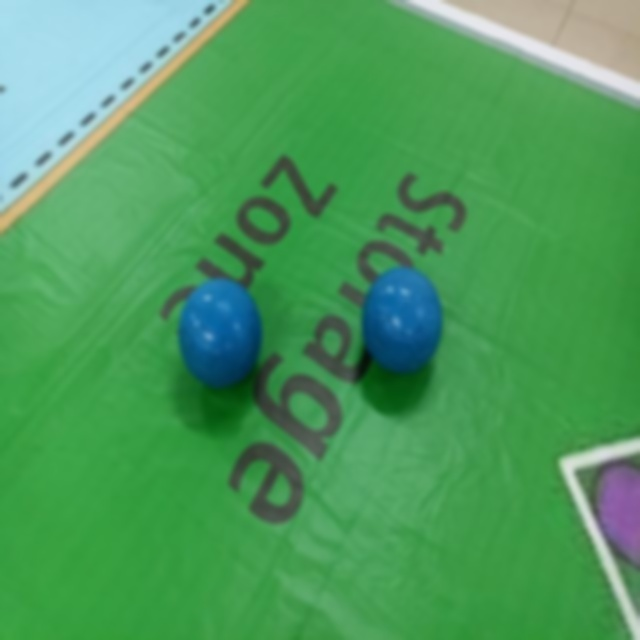blue_ball: (360, 266, 442, 373), (182, 280, 261, 388)
